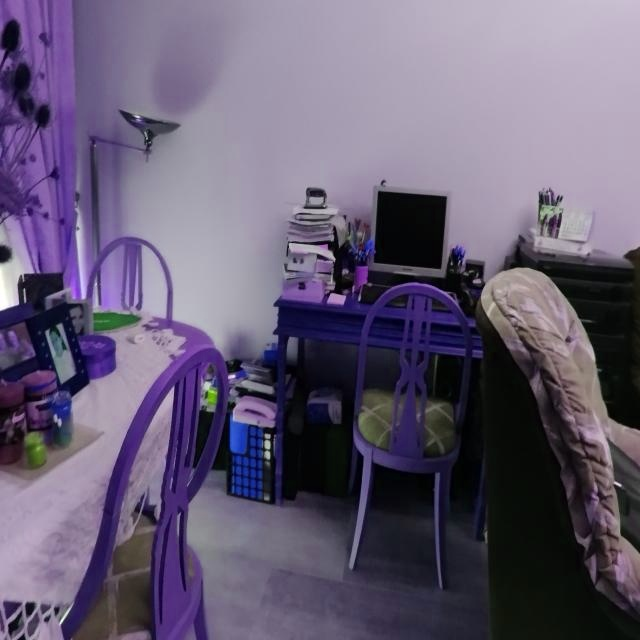chair: (475, 268, 640, 640), (60, 348, 229, 640), (346, 284, 480, 586), (91, 227, 173, 316)
lamp: (118, 110, 181, 161), (90, 137, 100, 262)
monitor: (372, 187, 450, 280)
stove: (0, 317, 212, 640), (273, 300, 370, 507)
